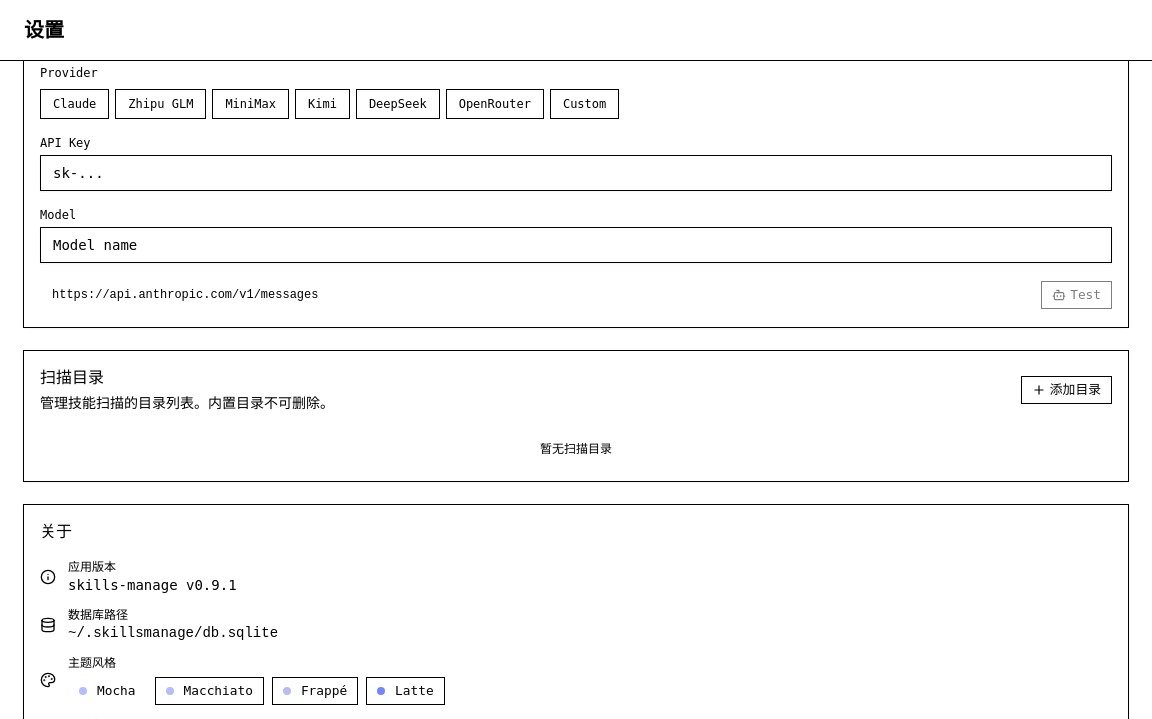
it: SettingsView › opens add directory dialog when button is clicked
(page scrolled)
Click the button with aria-label "添加项目目录" at {"x": 1066, "y": 390}, box left=1021, top=376, right=1112, bottom=404
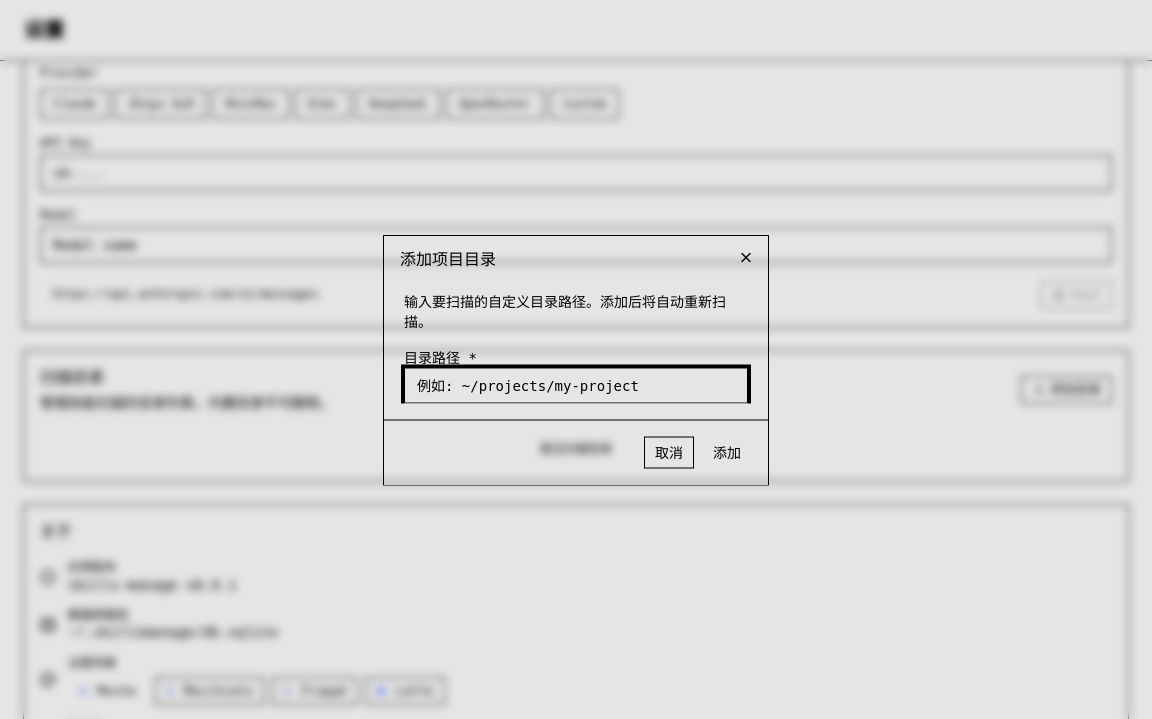
expect the heading "添加项目目录" is shown: met, box left=400, top=250, right=496, bottom=268
